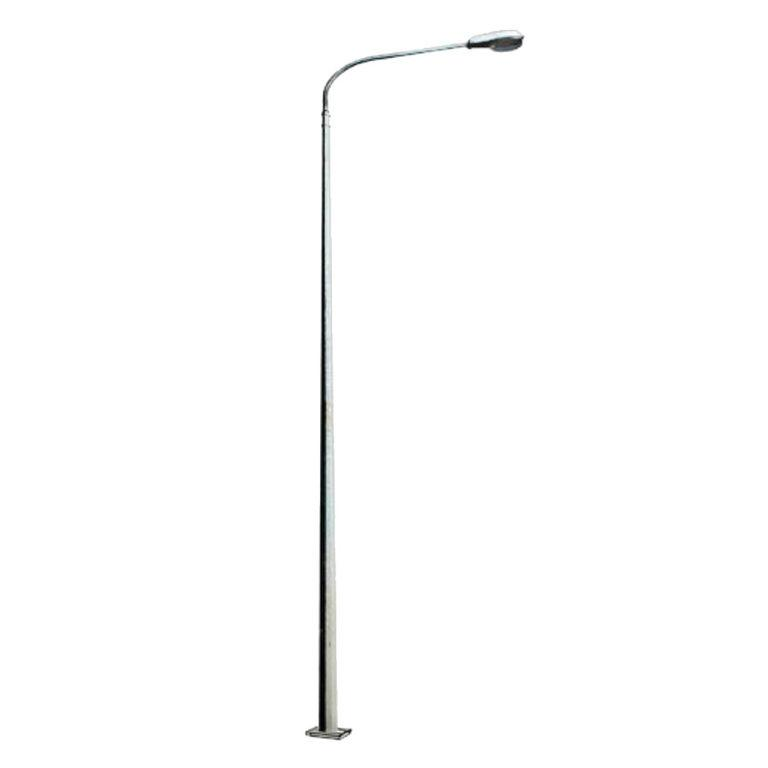Animal: (294, 29, 530, 749)
